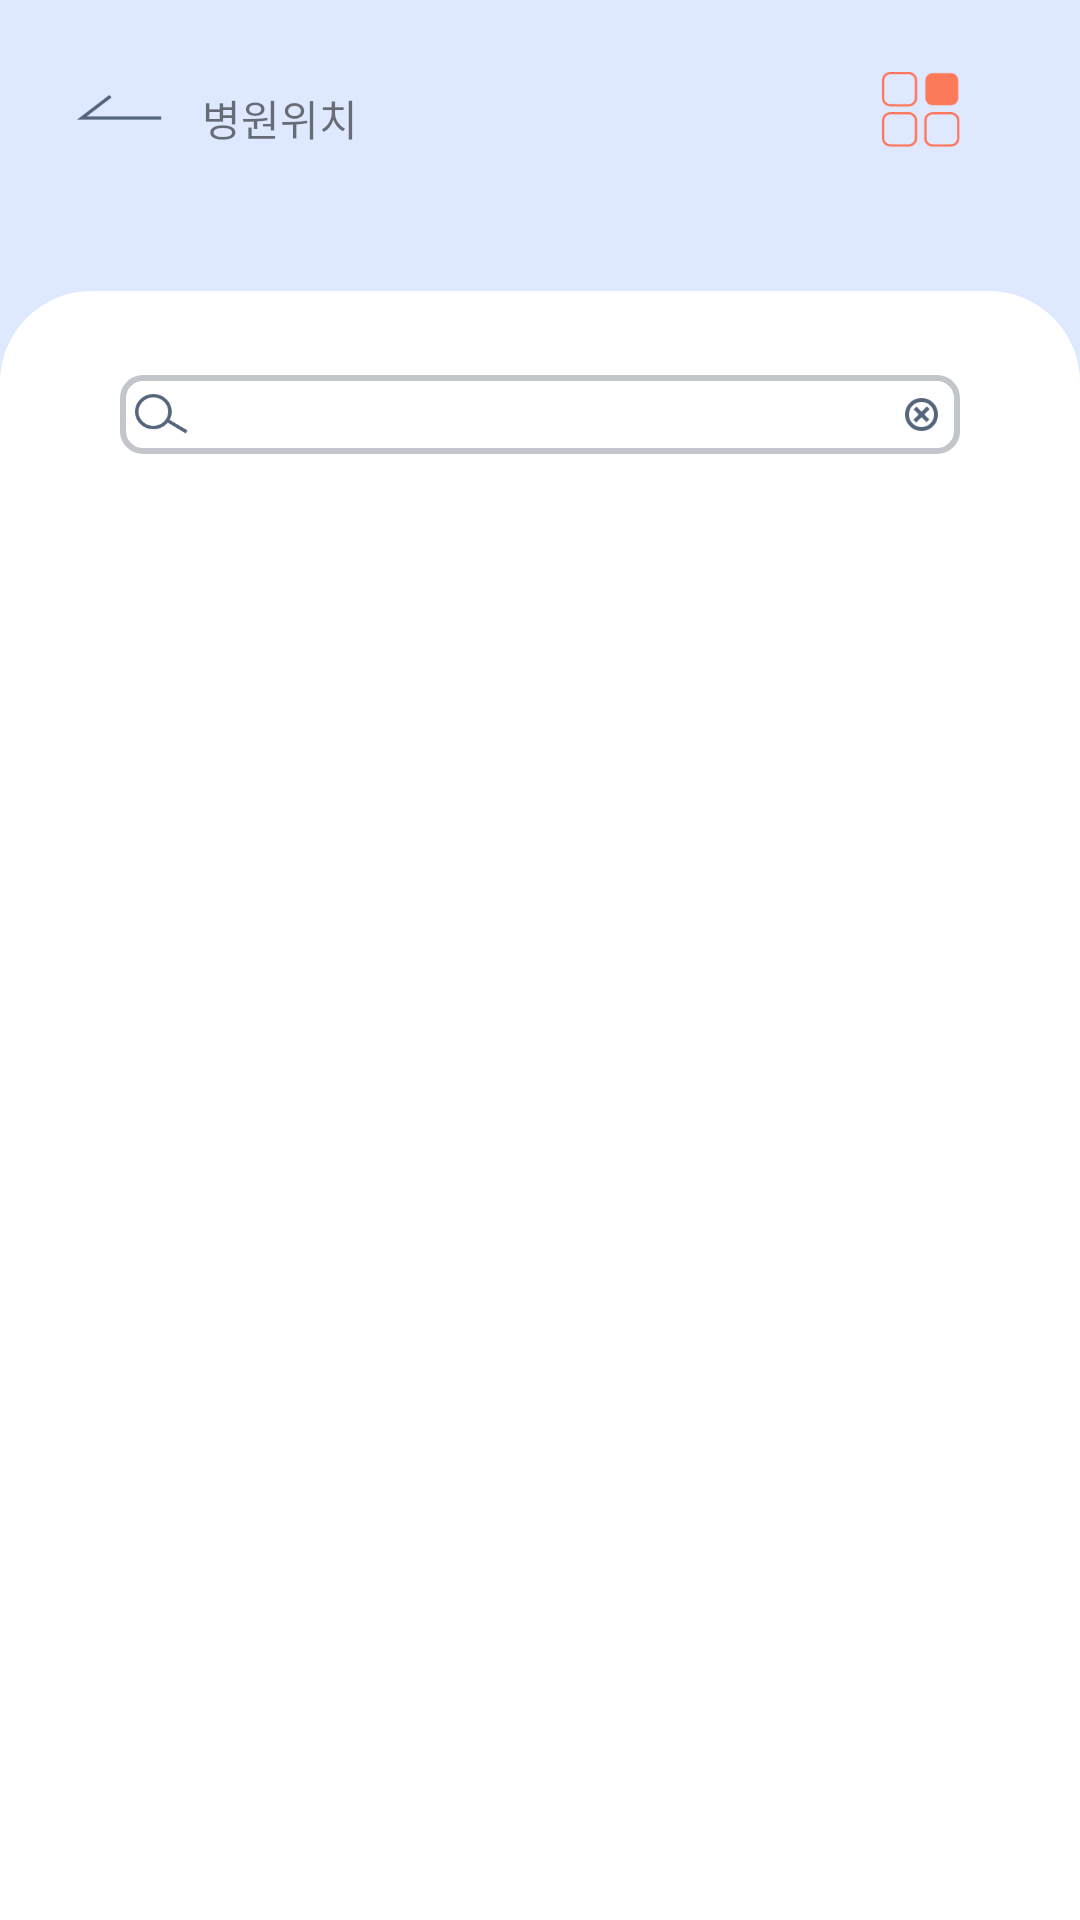

Point at icon controls on the screen. Image size 1080px×1920px, points as point (x, y).
back: point (119, 107)
search: point (161, 414)
